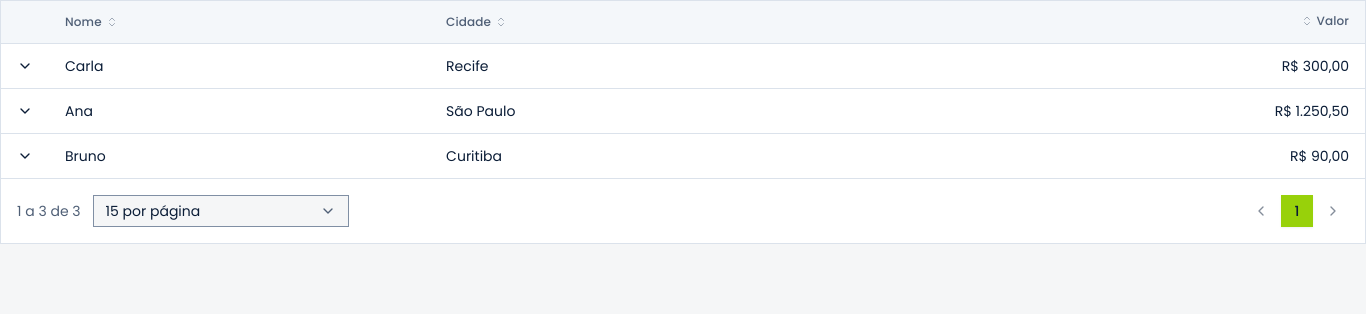
Test case: Table › expande a linha e mostra o conteúdo; recolhe e ele some
Expected: the text "Detalhes de Carla" is not shown
What coordinates should you click on to do the following:
click the button named "Expandir linha" next to "Carla"
I would click on:
 (25, 66)
Its box is [9,50,41,82].
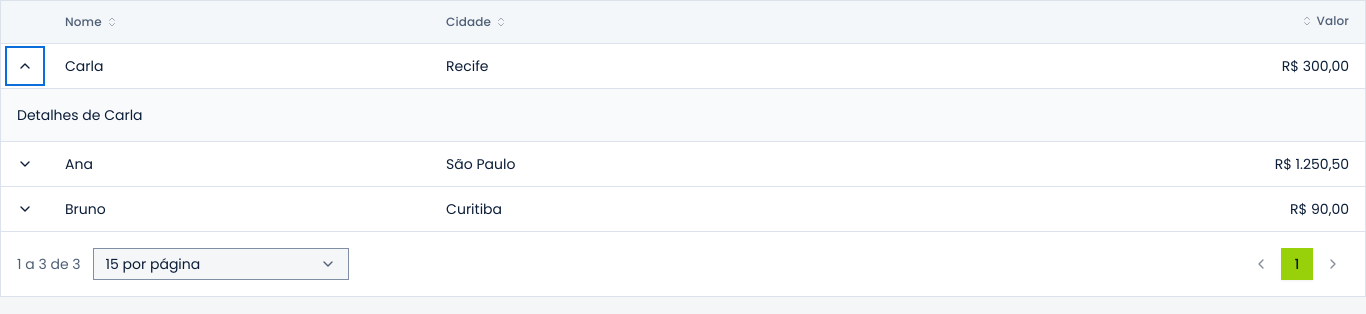
Now the text "Detalhes de Carla" is shown, box [17,105,143,125]
What coordinates should you click on to do the following:
click the button named "Recolher linha"
I would click on:
 (25, 66)
Its box is [9,50,41,82].
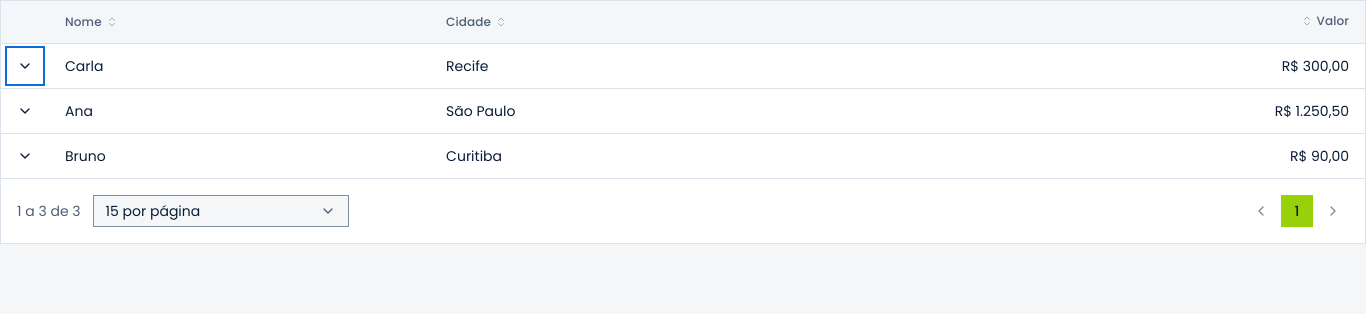
Now the text "Detalhes de Carla" is gone
